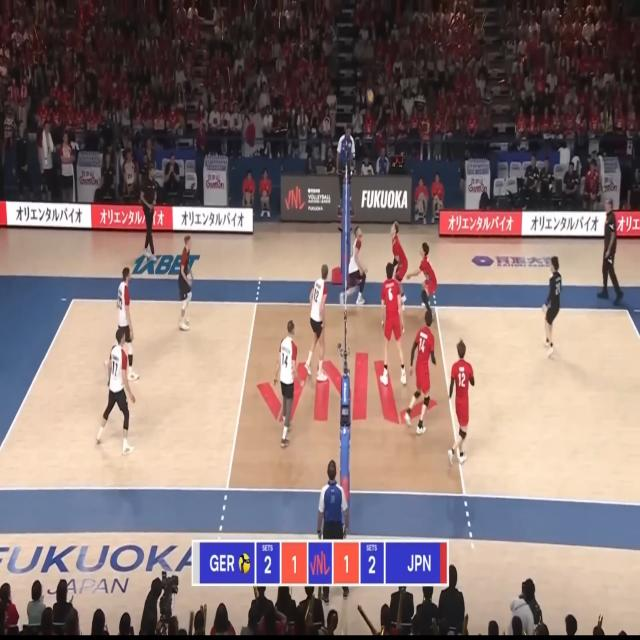ball: (367, 90, 374, 103)
